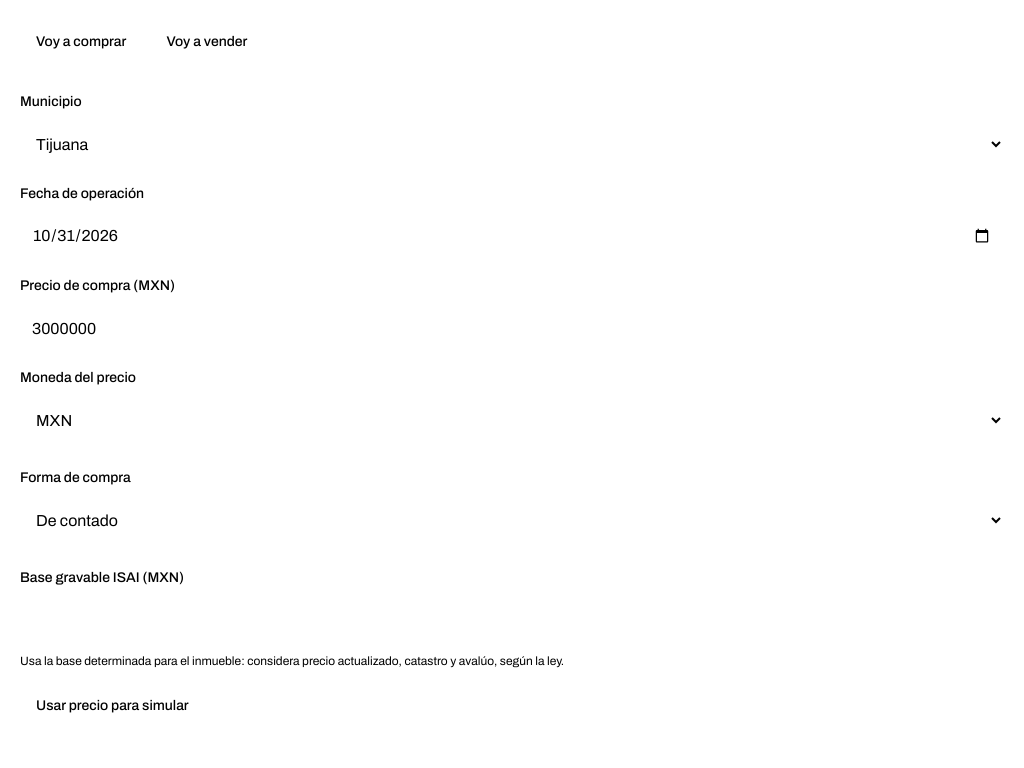
Scenario: closing loan split follows decimal half-up rounding
Step 1. Replace the text in the number field labelled "Precio de compra (MXN)" with "100050" → [512, 328], box [20,304,1004,352]
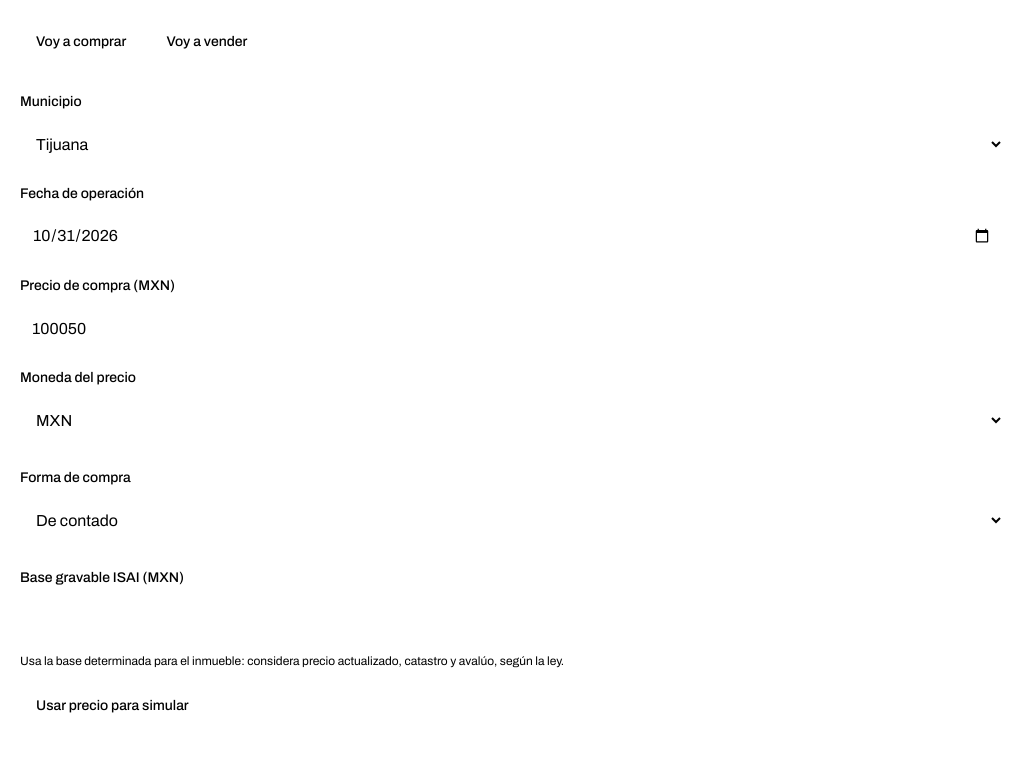
Step 2. Select "Con crédito" in the dropdown labelled "Forma de compra" → [512, 520], box [20,496,1004,544]
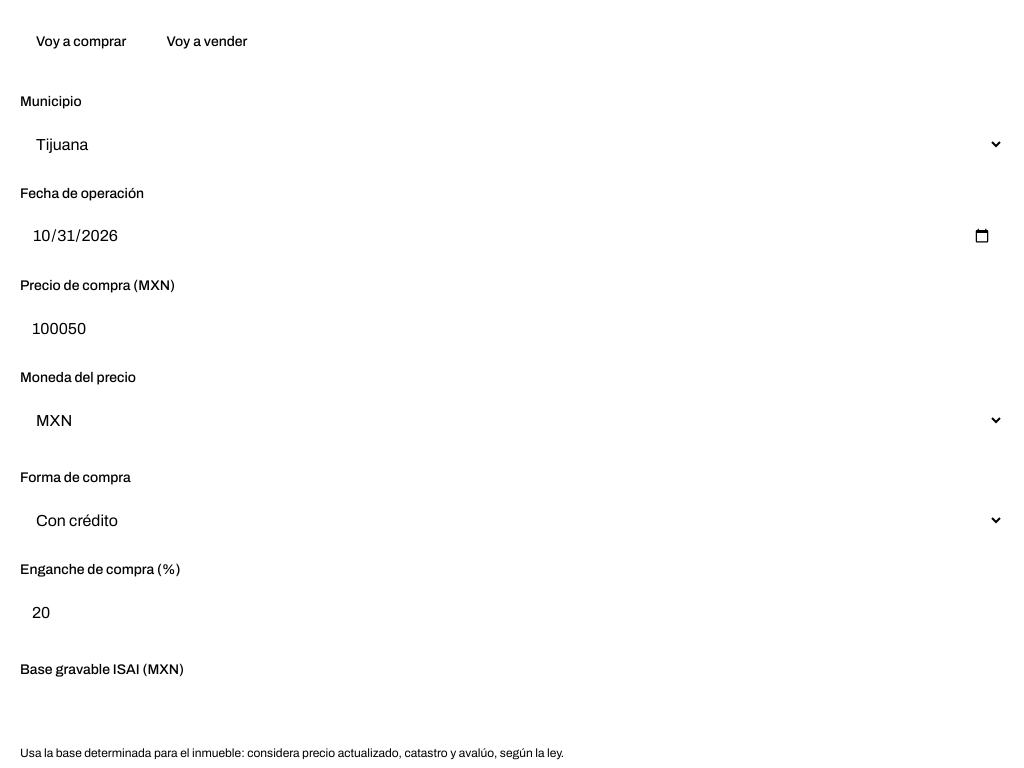
Step 3. Replace the text in the number field labelled "Enganche de compra (%)" with "1.13" → [512, 612], box [20,588,1004,636]
(page scrolled)
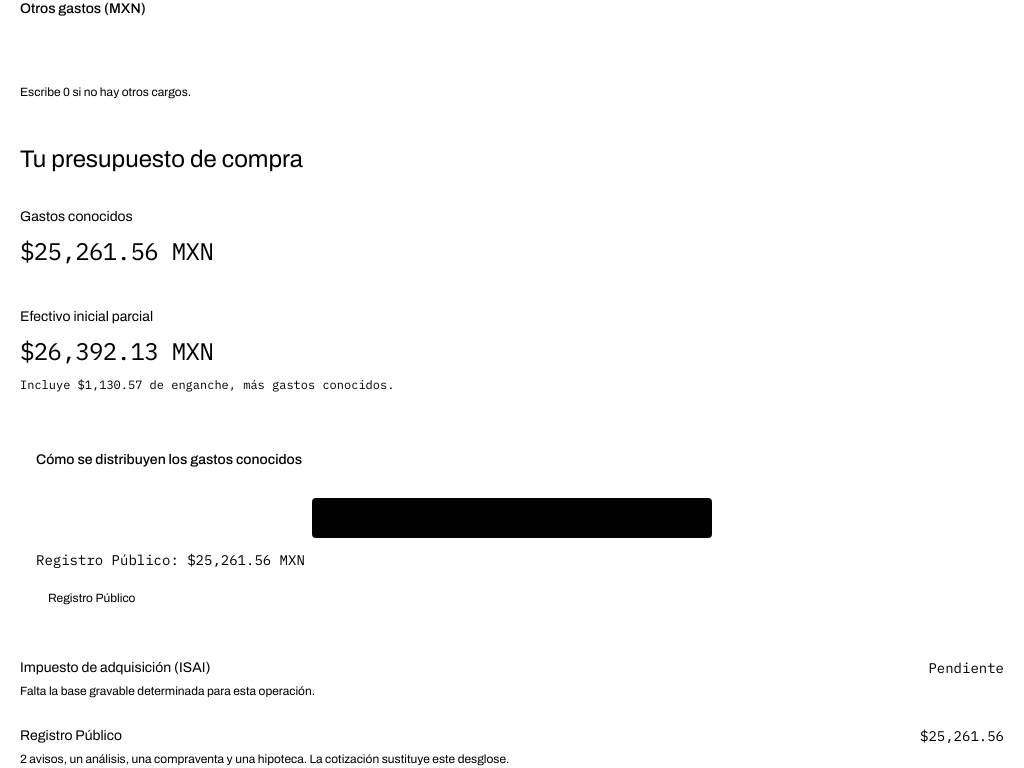
Expected: the text "Incluye $1,130.57 de enganche, más gastos conocidos." is shown, [20,376,394,392]
